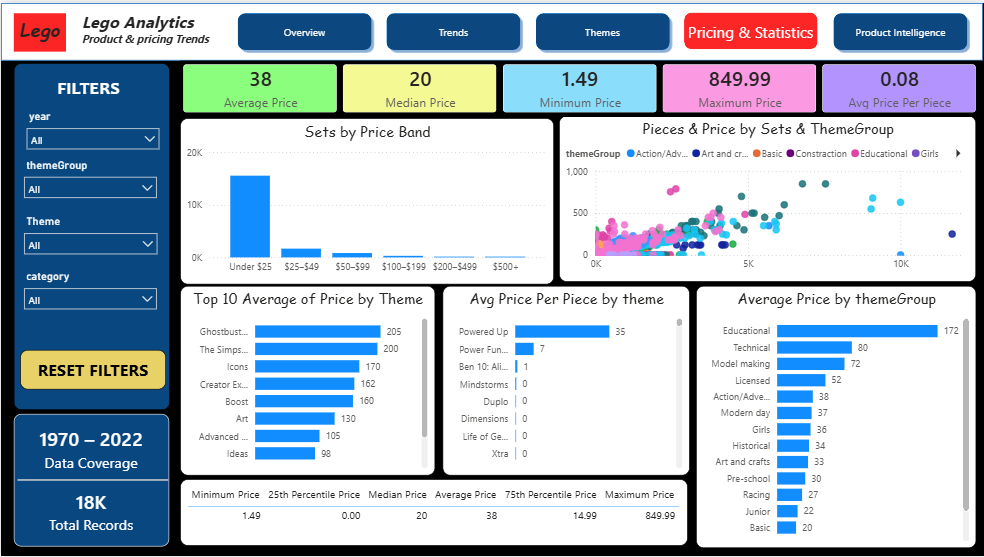

The page's visual inventory and layout, read from the dashboard file:
{"tool":"powerbi","page":{"name":"Pricing & Statistics","canvas":[1280,720],"ordinal":3},"visuals":[{"type":"shape","box":[0,0,1278.3,75],"z":0},{"type":"columnChart","title":"Sets by Price Band","fields":{"Category":["lego_sets.Price Band"],"Y":["Count(lego_sets.set_id)"]},"box":[233.3,150,486.7,216.7],"z":1000},{"type":"scatterChart","title":" Pieces & Price by Sets & ThemeGroup","fields":{"X":["lego_sets.Total Pieces"],"Y":["Sum(lego_sets.US_retailPrice)"],"Category":["lego_sets.set_id"],"Series":["lego_sets.themeGroup"]},"box":[726.7,146.7,543.3,216.7],"z":2000},{"type":"barChart","fields":{"Category":["lego_sets.theme"],"Y":["lego_sets.Avg Price Per Piece"]},"box":[575,368.3,321.7,246.7],"z":3000},{"type":"shape","box":[16.7,78.3,203.3,451.7],"z":4000},{"type":"slicer","fields":{"Values":["lego_sets.year"]},"box":[22.9,134.3,192.9,64.3],"z":5000},{"type":"slicer","fields":{"Values":["lego_sets.category"]},"box":[20,342.9,192.9,65.7],"z":6000},{"type":"slicer","fields":{"Values":["lego_sets.themeGroup"]},"box":[20,198.6,192.9,64.3],"z":7000},{"type":"slicer","fields":{"Values":["lego_sets.theme"]},"box":[19.6,271,193.7,72.3],"z":8000},{"type":"textbox","box":[22.9,88.6,181.4,45.7],"z":9000},{"type":"actionButton","title":"RESET FILTRRS","box":[24.5,451.3,190.1,51.5],"z":10000},{"type":"cardVisual","fields":{"Data":["lego_sets.Average Price","lego_sets.Median Price","lego_sets.Minimum Price","lego_sets.Maximum Price","lego_sets.Avg Price Per Piece"]},"box":[233.3,75,1045,73.3],"z":11000},{"type":"cardVisual","fields":{"Data":["lego_sets.Data Coverage","lego_sets.Total Records"]},"box":[17.2,534.6,202.3,172.9],"z":12000},{"type":"shape","box":[22.1,556.7,196.2,128.8],"z":13000},{"type":"barChart","title":" Top 10 Average of Price by Theme","fields":{"Category":["lego_sets.theme"],"Y":["Avg(lego_sets.US_retailPrice)"]},"box":[233.3,368.3,331.7,246.7],"z":14000},{"type":"tableEx","fields":{"Values":["lego_sets.Minimum Price","lego_sets.25th Percentile Price","lego_sets.Median Price","lego_sets.Average Price","lego_sets.75th Percentile Price","lego_sets.Maximum Price"]},"box":[234.1,620.8,660.8,87.1],"z":15000},{"type":"barChart","fields":{"Category":["lego_sets.themeGroup"],"Y":["lego_sets.Average Price"]},"box":[905,368.3,365,341.7],"z":16000},{"type":"pageNavigator","box":[303.3,8.3,963.3,58.3],"z":17000},{"type":"textbox","box":[100,5,198.3,63.3],"z":18000},{"type":"textbox","box":[16.7,13.3,68.3,50],"z":19000}]}

Visuals, with their boxes in screenshot pixels (x1, y1, x2, y2), scaled from the page's 1280x720 canvas onto the 984x557 screenshot:
shape: left=0, top=0, right=983, bottom=58
"Sets by Price Band" columnChart: left=179, top=116, right=554, bottom=284
" Pieces & Price by Sets & ThemeGroup" scatterChart: left=559, top=113, right=976, bottom=281
barChart - lego_sets.theme x lego_sets.Avg Price Per Piece: left=442, top=285, right=689, bottom=476
shape: left=13, top=61, right=169, bottom=410
slicer - lego_sets.year: left=18, top=104, right=166, bottom=154
slicer - lego_sets.category: left=15, top=265, right=164, bottom=316
slicer - lego_sets.themeGroup: left=15, top=154, right=164, bottom=203
slicer - lego_sets.theme: left=15, top=210, right=164, bottom=266
textbox: left=18, top=69, right=157, bottom=104
"RESET FILTRRS" actionButton: left=19, top=349, right=165, bottom=389
cardVisual - lego_sets.Average Price x lego_sets.Median Price: left=179, top=58, right=983, bottom=115
cardVisual - lego_sets.Data Coverage x lego_sets.Total Records: left=13, top=414, right=169, bottom=547
shape: left=17, top=431, right=168, bottom=530
" Top 10 Average of Price by Theme" barChart: left=179, top=285, right=434, bottom=476
tableEx - lego_sets.Minimum Price x lego_sets.25th Percentile Price: left=180, top=480, right=688, bottom=548
barChart - lego_sets.themeGroup x lego_sets.Average Price: left=696, top=285, right=976, bottom=549
pageNavigator: left=233, top=6, right=974, bottom=52
textbox: left=77, top=4, right=229, bottom=53
textbox: left=13, top=10, right=65, bottom=49
